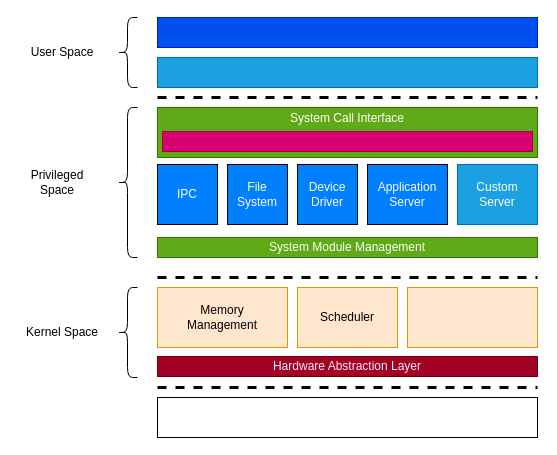
The diagram is 557 pixels wide and 455 high, and some of its shapes have lost their labels. Here are the shapes that lost their labels. From the top down, the box of each, then its label:
(156, 16, 538, 48): Applications
(156, 56, 538, 88): User Level Libraries
(162, 130, 532, 152): Security Assurance Layer
(406, 286, 538, 348): Basic Interprocess Communication
(156, 396, 538, 438): Physical Hardware
